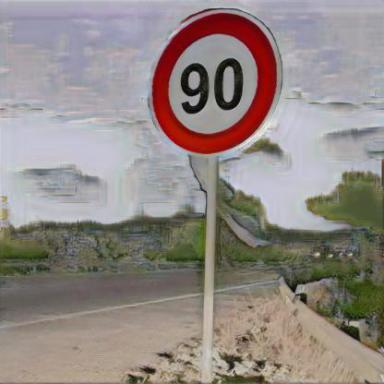Speed_limit_90: (151, 10, 282, 157)
